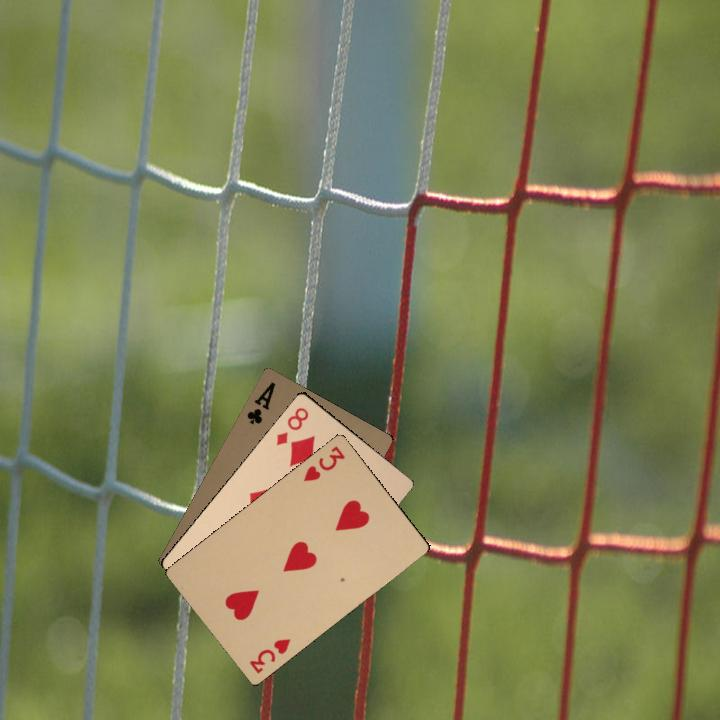3h: (299, 442, 348, 484), (245, 634, 293, 676)
8d: (272, 403, 311, 448)
Ac: (243, 378, 278, 427)
